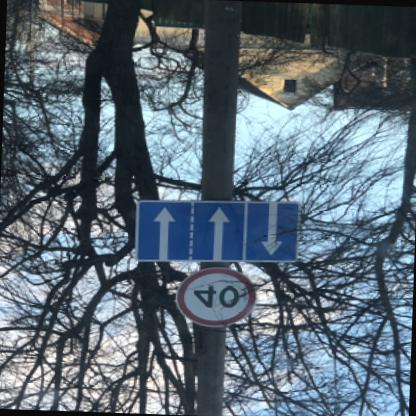speedlimit: (172, 266, 256, 328)
